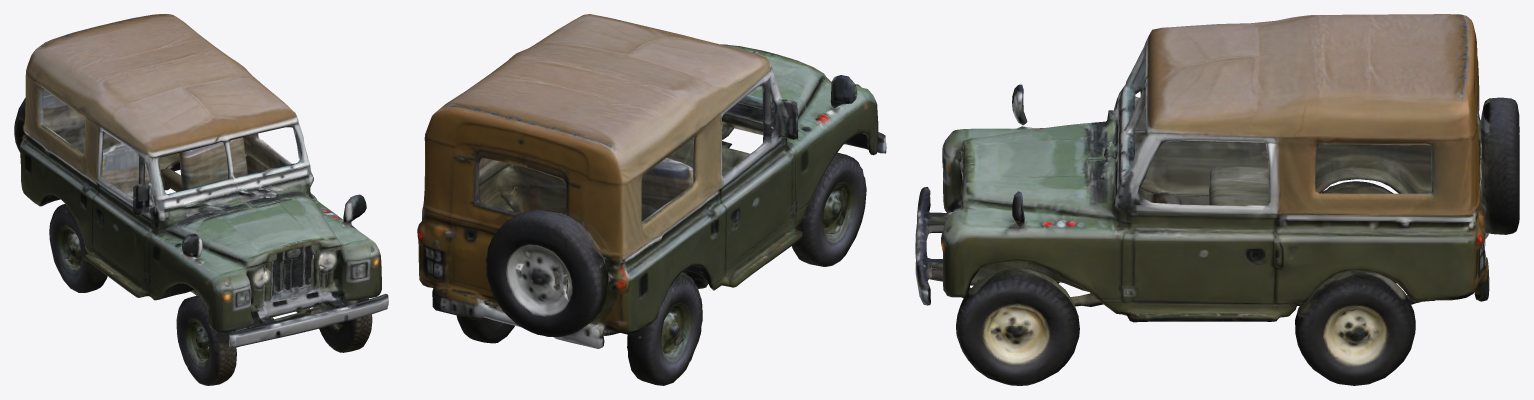
File: Land_Rover_Serie_2_Re_1108193424_refine.obj
The picture shows the model from 3 angles, left to right: view 1: azimuth 30°, elevation 25°; view 2: azimuth 150°, elevation 25°; view 3: azimuth 270°, elevation 25°; orthographic projection. The views are drawn at different scales.
Visible parts, largest first — view 1: Mesh_0; view 2: Mesh_0; view 3: Mesh_0.
Part boxes in pixels (x1,y1,x2,y2): Mesh_0: [14, 14, 388, 385]; Mesh_0: [417, 14, 886, 385]; Mesh_0: [915, 14, 1519, 385].
Bounding box in the file's own units: 0.9427 × 1.05 × 2.
1 material, 1 textured.
